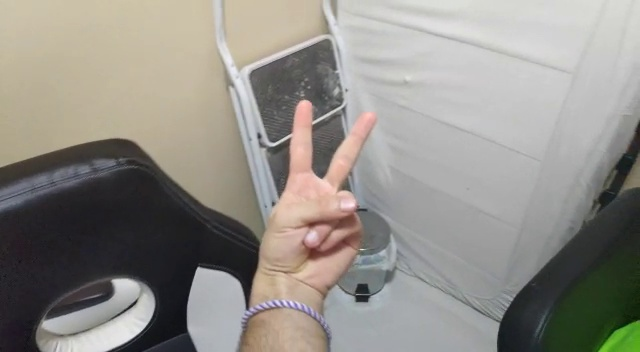Peace: (253, 100, 380, 276)
